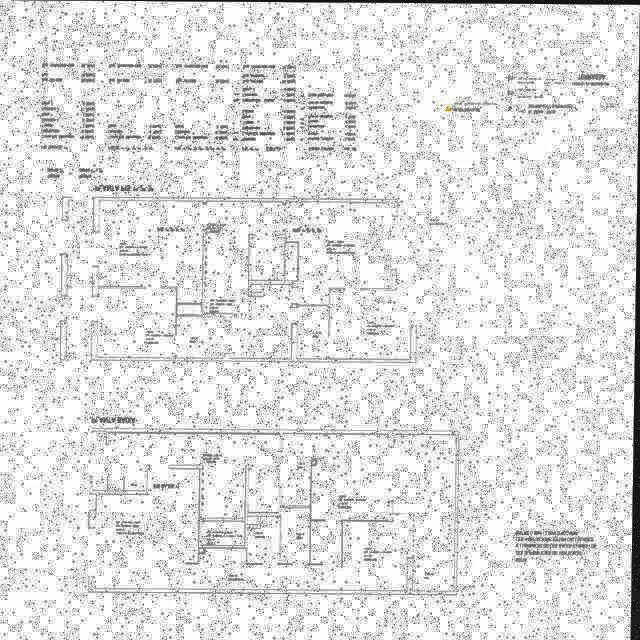room: (96, 468, 344, 591), (110, 433, 281, 517), (286, 202, 392, 305), (100, 200, 204, 303), (394, 434, 457, 590), (204, 201, 283, 313), (313, 433, 390, 520), (330, 289, 412, 358), (344, 513, 416, 590), (99, 288, 177, 357), (231, 284, 293, 358), (283, 433, 325, 506), (177, 316, 225, 357), (283, 507, 312, 563), (298, 306, 329, 358), (249, 516, 282, 563), (203, 521, 246, 545)
